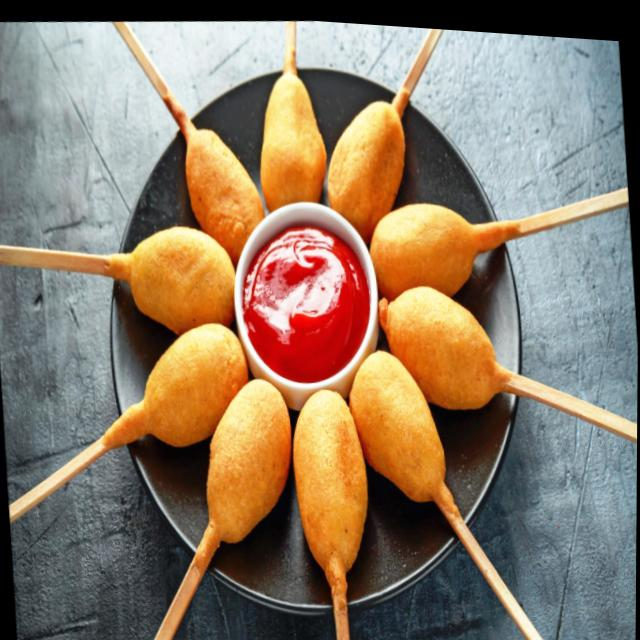ketchup: (232, 209, 380, 399)
